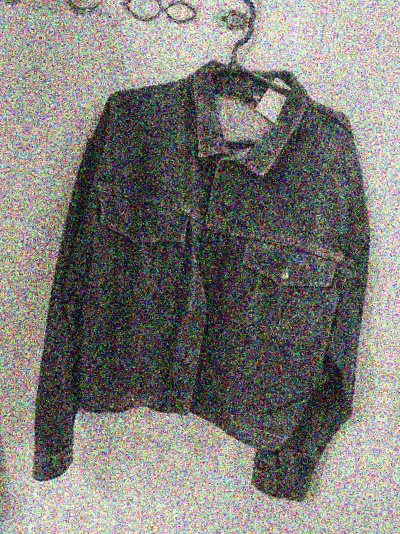Blazer: (0, 48, 400, 522), (0, 0, 17, 464), (387, 106, 400, 534)
